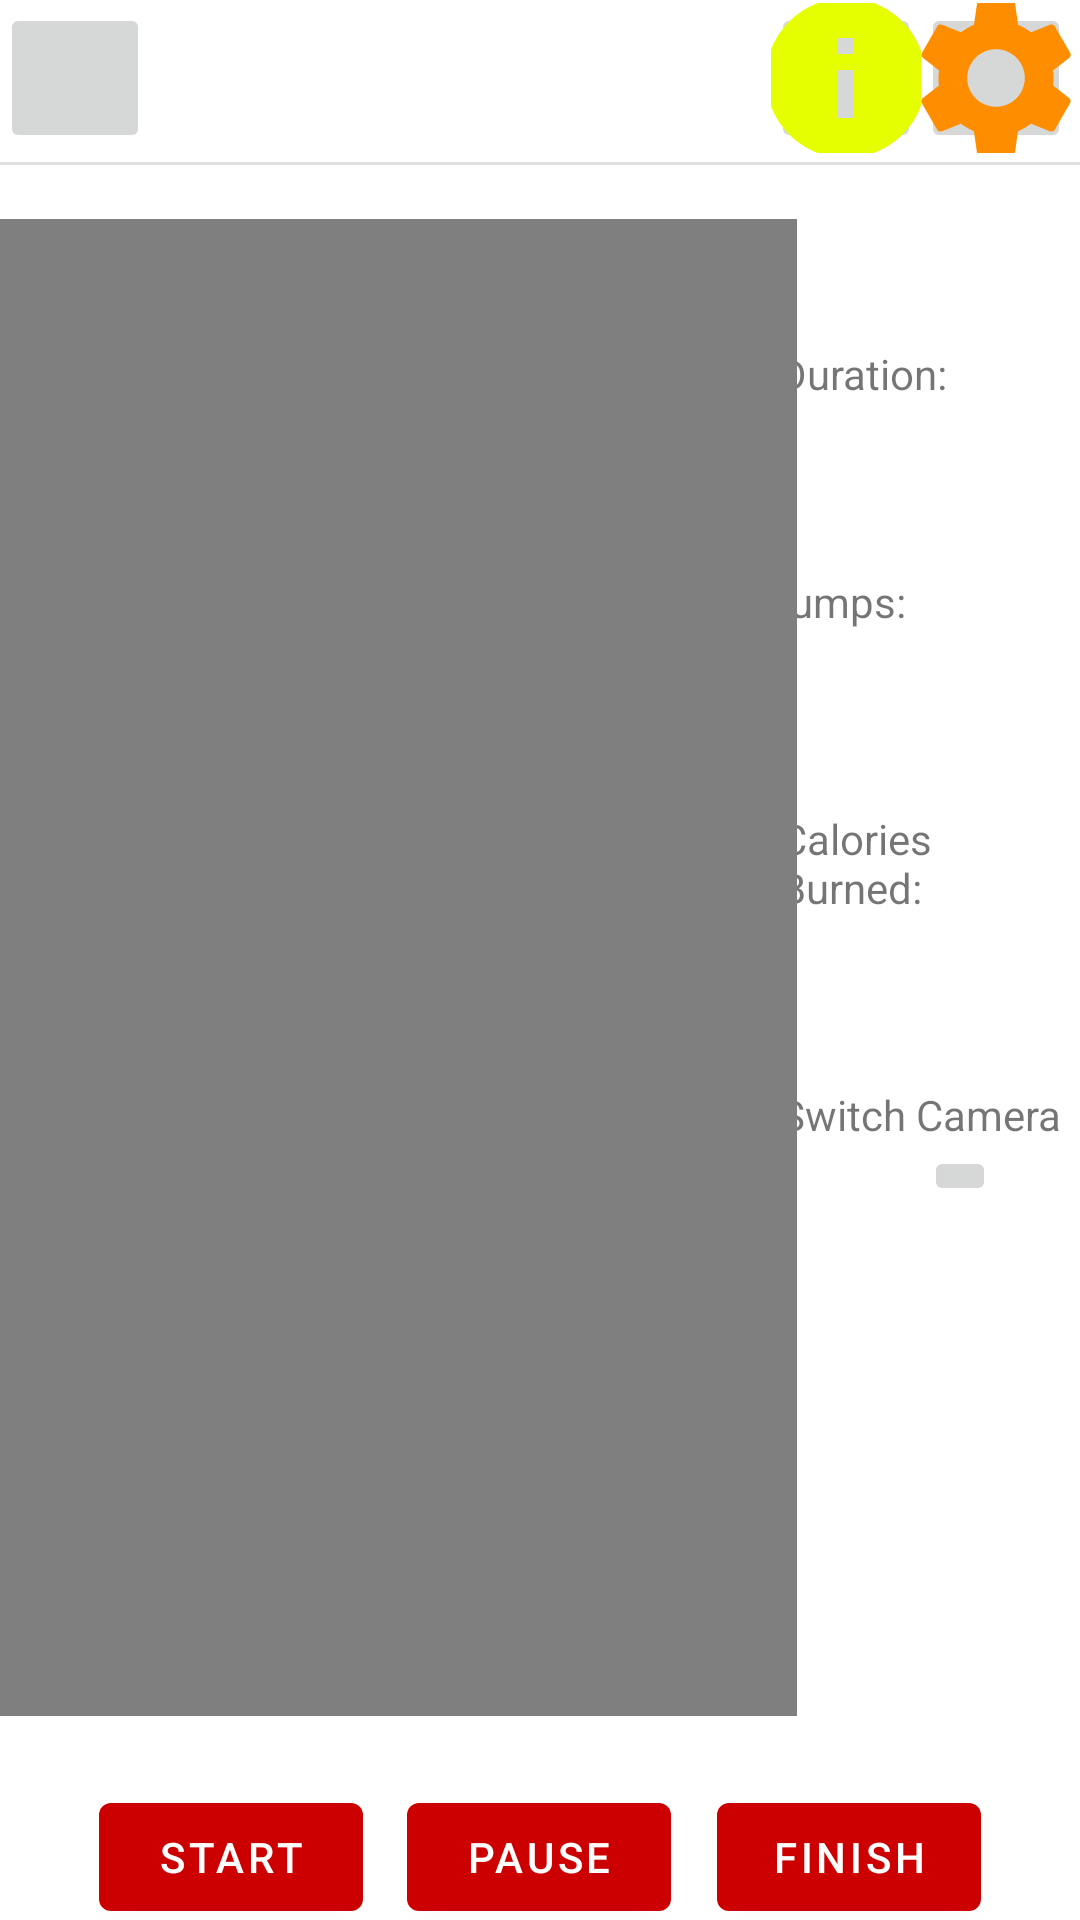

Icons on this 1080 x 1920 Android screen, each with its box as (x1, y1, x2, y2):
info: (771, 3, 921, 153)
settings: (921, 3, 1071, 153)
